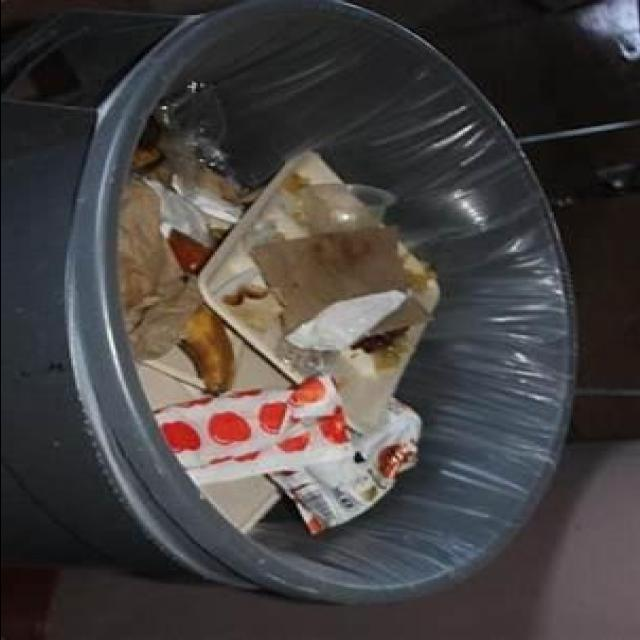Disposable: (197, 153, 439, 433)
Garbage: (117, 81, 439, 534)
Plastic_Bag: (155, 376, 352, 484), (270, 400, 421, 534)
